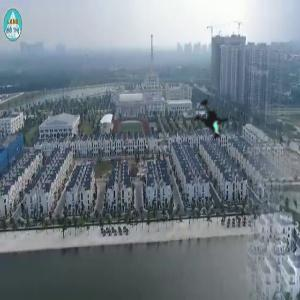drone: (161, 73, 257, 169)
